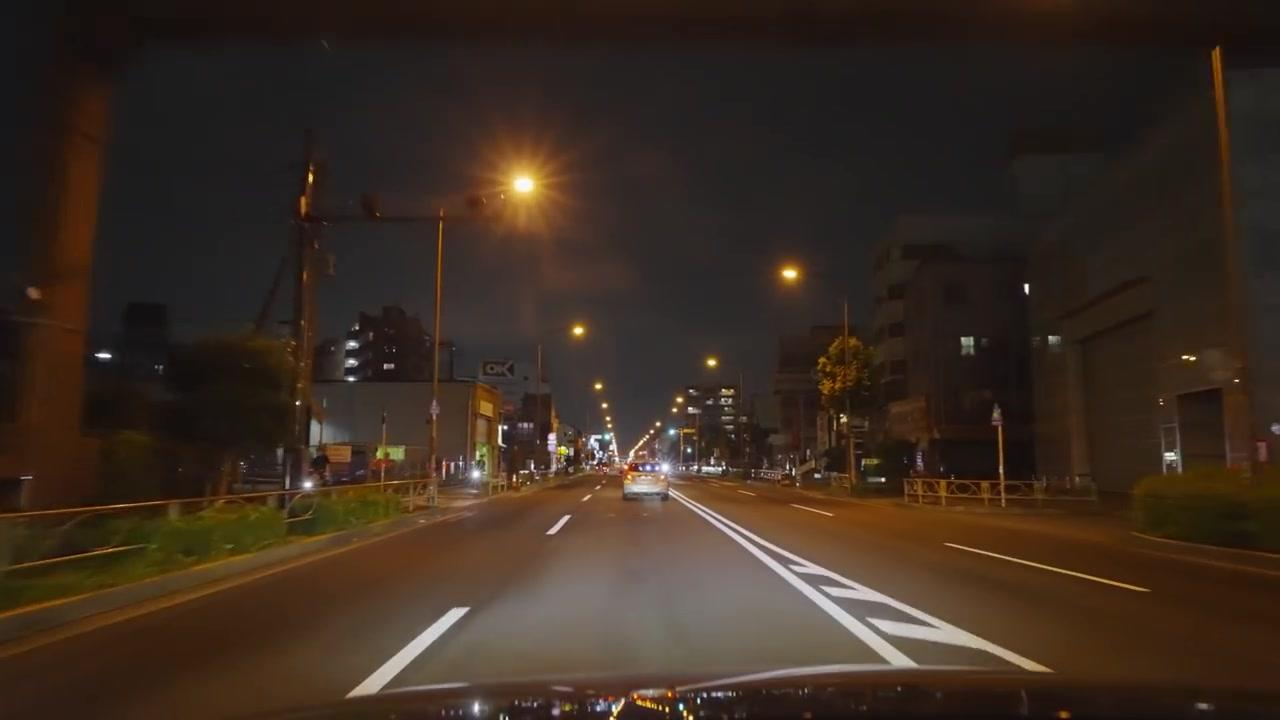car: (622, 463, 670, 501), (748, 469, 782, 480)
traffic light: (343, 330, 366, 382)
